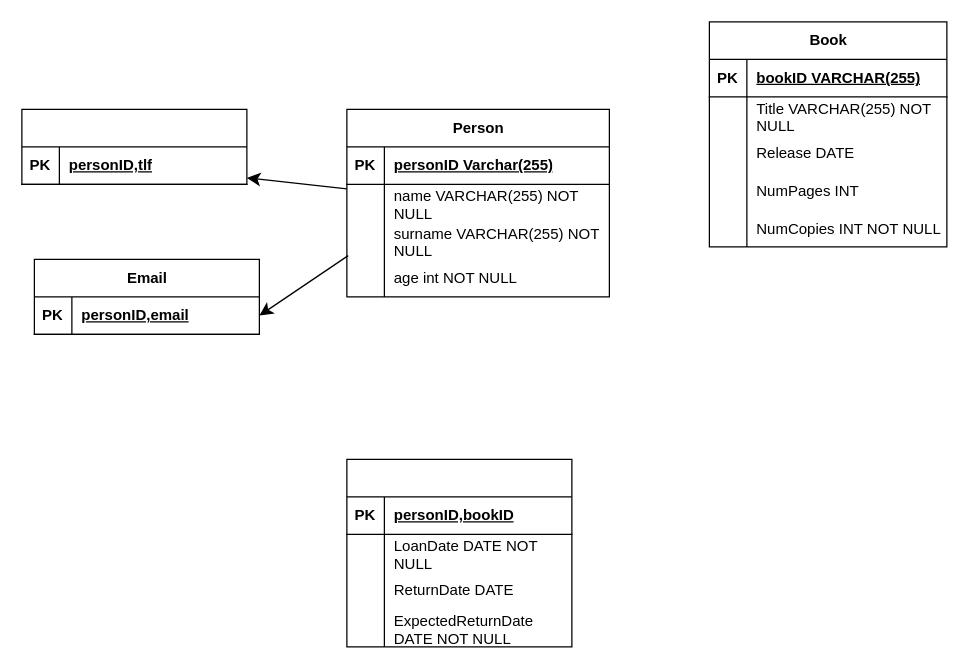
The diagram is 969 pixels wide and 669 high, and some of its shapes have lost their labels. The shapes that lost their labels are listed below. From the top down, each one's box as (x1, y1, x2, y2) in pixels, then its label:
(21, 108, 247, 184): Telefonos
(346, 458, 572, 647): Loans
